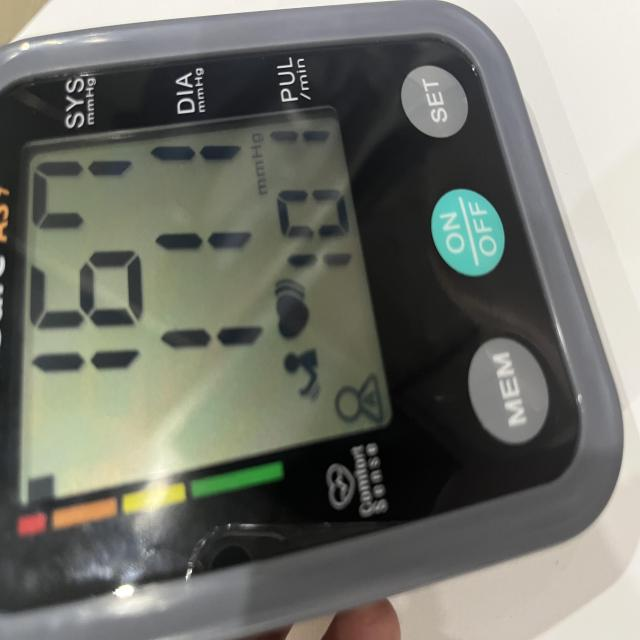bp: (0, 0, 623, 640)
